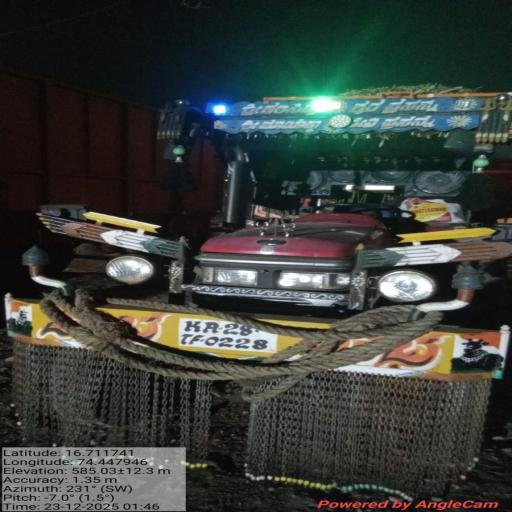number_plate: (184, 319, 267, 356)
